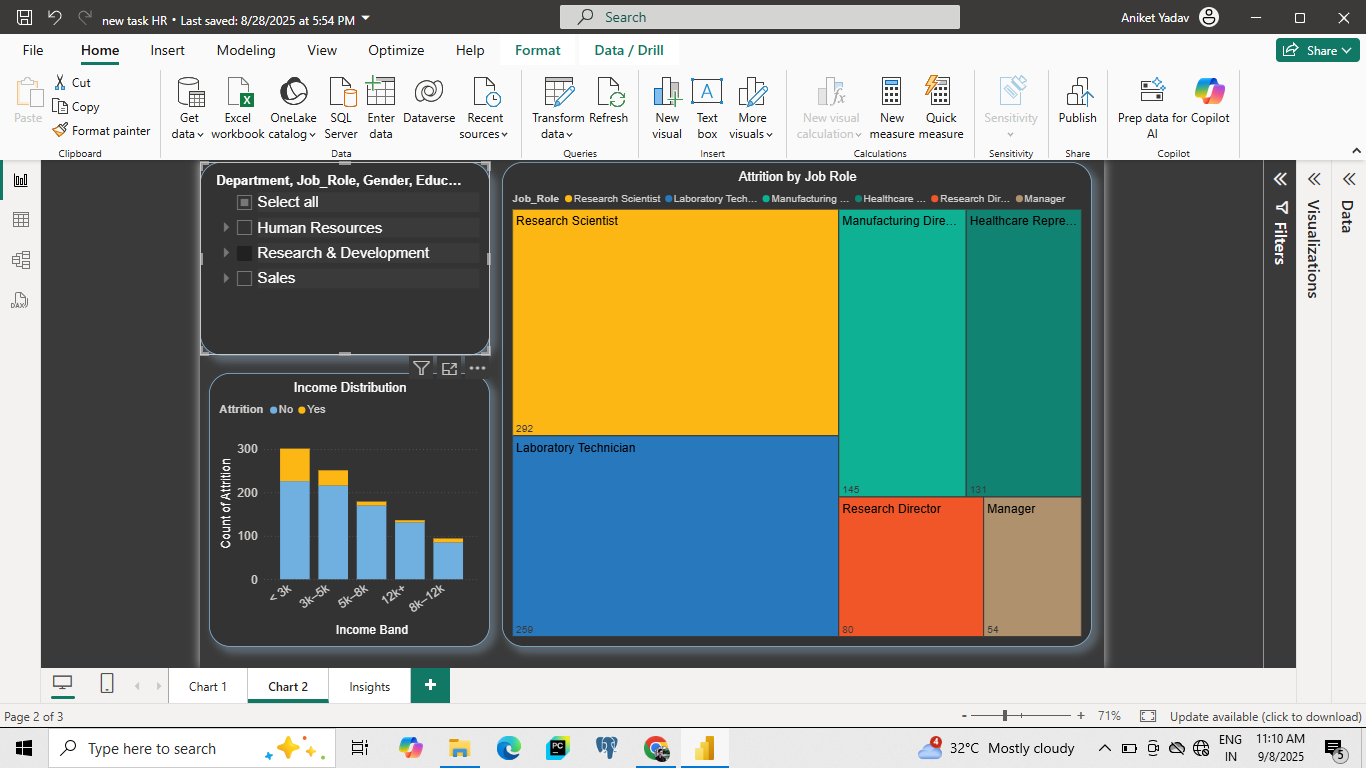

What the dashboard file says about the page in this screenshot:
{"tool":"powerbi","page":{"name":"Chart 2","canvas":[1280,720],"ordinal":1},"visuals":[{"type":"columnChart","title":"Income Distribution","fields":{"Category":["cleaned_hr_attrition.Income Band"],"Series":["cleaned_hr_attrition.Attrition"],"Y":["CountNonNull(cleaned_hr_attrition.Attrition)"]},"box":[12.8,301.9,398.3,388.4],"z":1000},{"type":"treemap","title":"Attrition by Job Role","fields":{"Group":["cleaned_hr_attrition.Job_Role"],"Values":["CountNonNull(cleaned_hr_attrition.Attrition)"]},"box":[428,2.8,836.2,687.4],"z":2000},{"type":"slicer","fields":{"Values":["cleaned_hr_attrition.Department","cleaned_hr_attrition.Job_Role","cleaned_hr_attrition.Gender","cleaned_hr_attrition.EducationField","cleaned_hr_attrition.Age Band"]},"box":[0,2.8,411,273.5],"z":3000}]}

Visuals, with their boxes on the page's 1280x720 design canvas (x1, y1, x2, y2). These are canvas units, not pixel positions in the 1366x768 screenshot, which may show the page scaled, cropped or inside an application window:
"Income Distribution" columnChart: box=[13, 302, 411, 690]
"Attrition by Job Role" treemap: box=[428, 3, 1264, 690]
slicer - cleaned_hr_attrition.Department x cleaned_hr_attrition.Job_Role: box=[0, 3, 411, 276]
